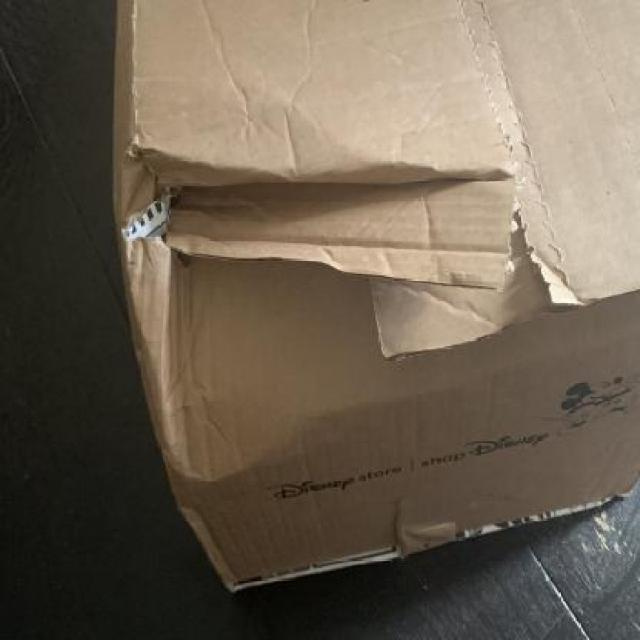crushed: (111, 144, 561, 487)
